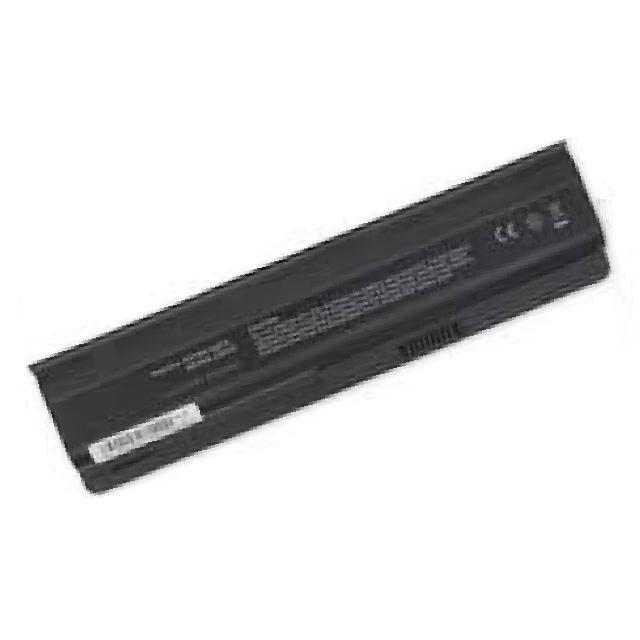Battery: (17, 114, 623, 506)
